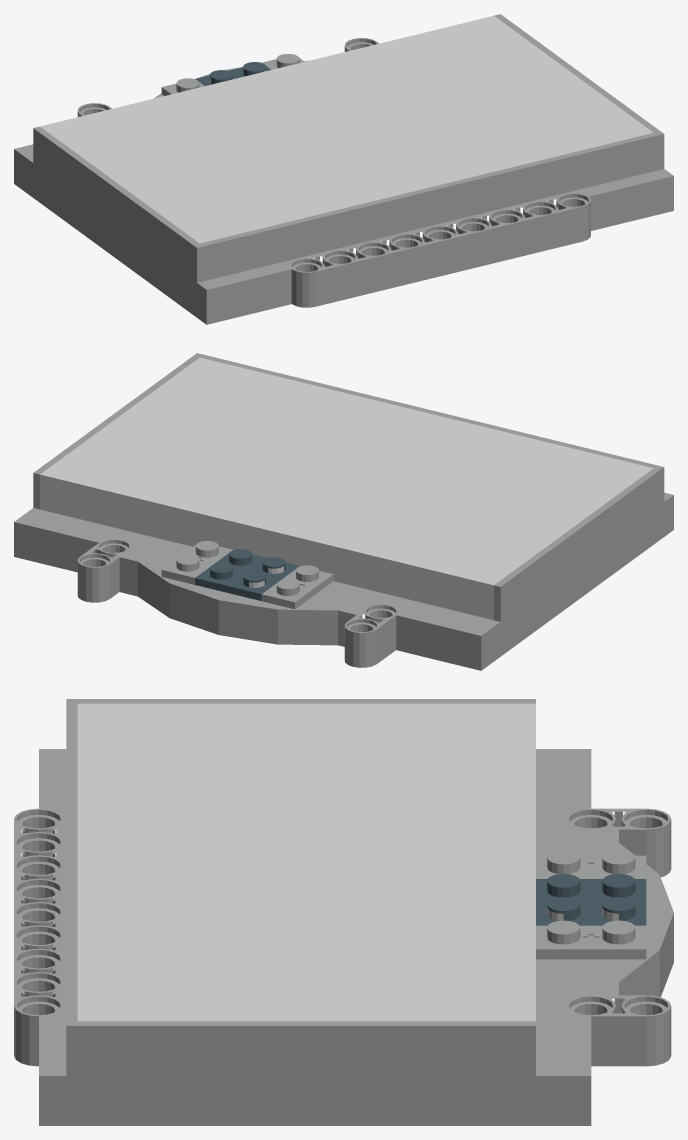
3 renders of one model, top to bottom at view 1: azimuth 30°, elevation 25°; view 2: azimuth 150°, elevation 25°; view 3: azimuth 270°, elevation 25°, orthographic. The views are drawn at different scales.
Parts seen in each view (by area): view 1: world; view 2: world; view 3: world.
Part boxes in pixels (x1,y1,x2,y2): world: (14, 14, 673, 324); world: (14, 353, 673, 670); world: (14, 699, 673, 1125).
Bounding box in the file's own units: 0.112 × 0.016 × 0.0956.
